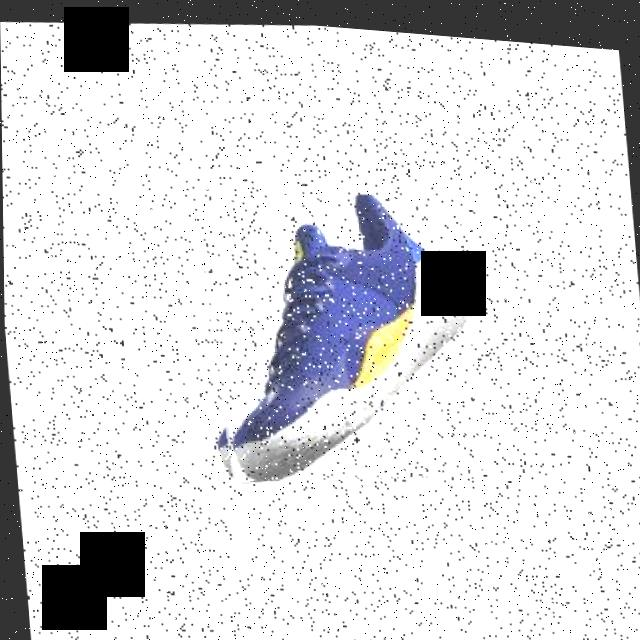shoe: (191, 170, 481, 495)
